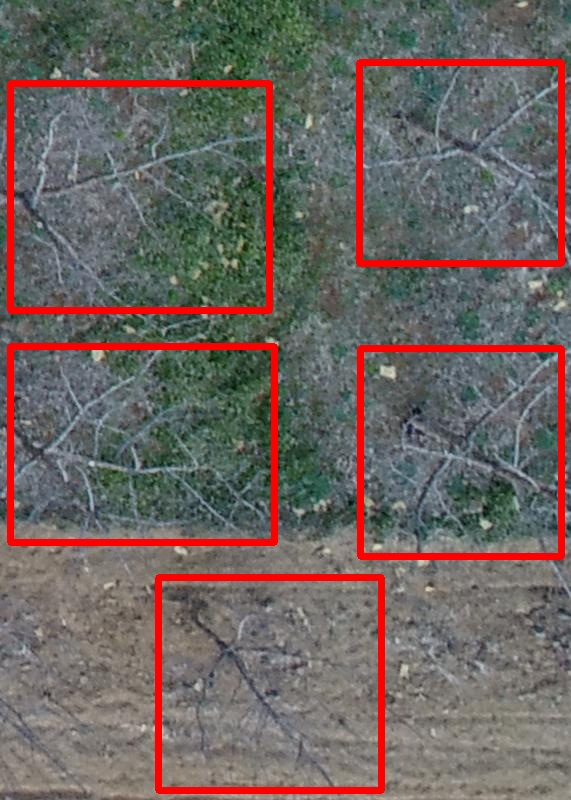apple: (10, 83, 269, 310), (10, 346, 274, 542), (158, 577, 381, 790), (360, 348, 561, 556), (359, 62, 561, 263)
